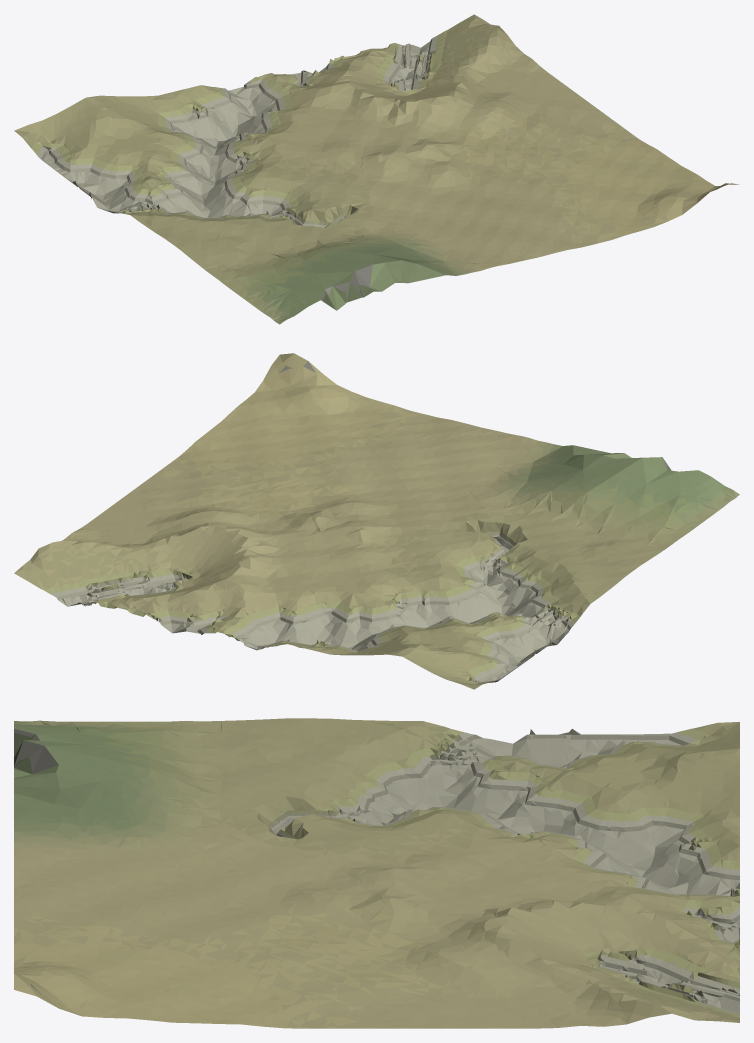
File: round-10c-Ground_0_-1.glb
The picture shows the model from 3 angles, top to bottom: view 1: azimuth 30°, elevation 25°; view 2: azimuth 150°, elevation 25°; view 3: azimuth 270°, elevation 25°; orthographic projection. The views are drawn at different scales.
Parts seen in each view (by area): view 1: Ground_0_-1; view 2: Ground_0_-1; view 3: Ground_0_-1.
Boxes of the visible parts, x1,y1,x2,y2 form: Ground_0_-1: (14, 14, 738, 324); Ground_0_-1: (14, 353, 739, 689); Ground_0_-1: (14, 718, 739, 1028).
Bounding box in the file's own units: 768 × 99.38 × 768.
